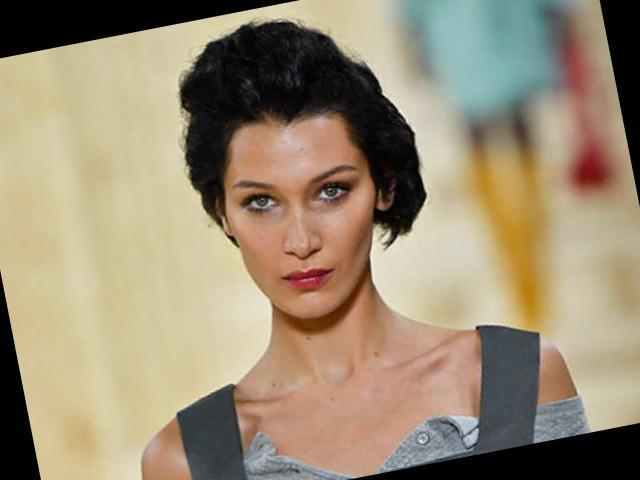Sober: (226, 127, 366, 312)
